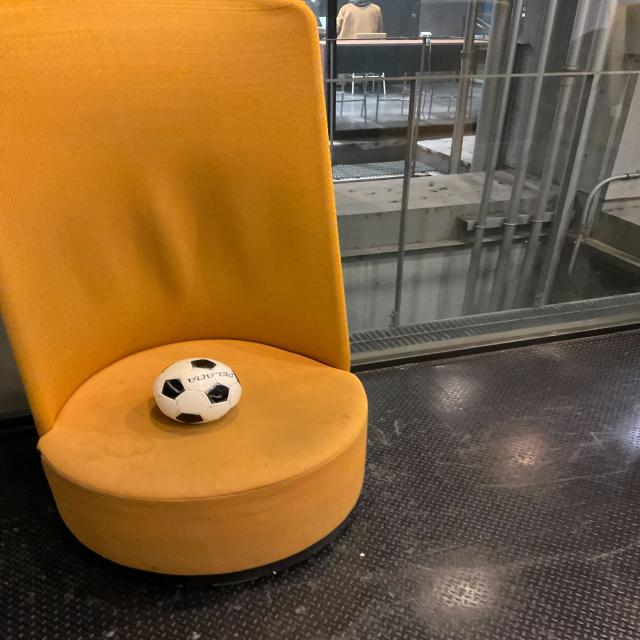ball: (157, 359, 240, 426)
